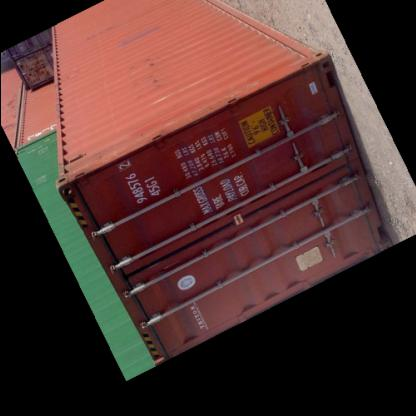Damage: (69, 134, 124, 186), (137, 52, 166, 93), (111, 26, 163, 46)
